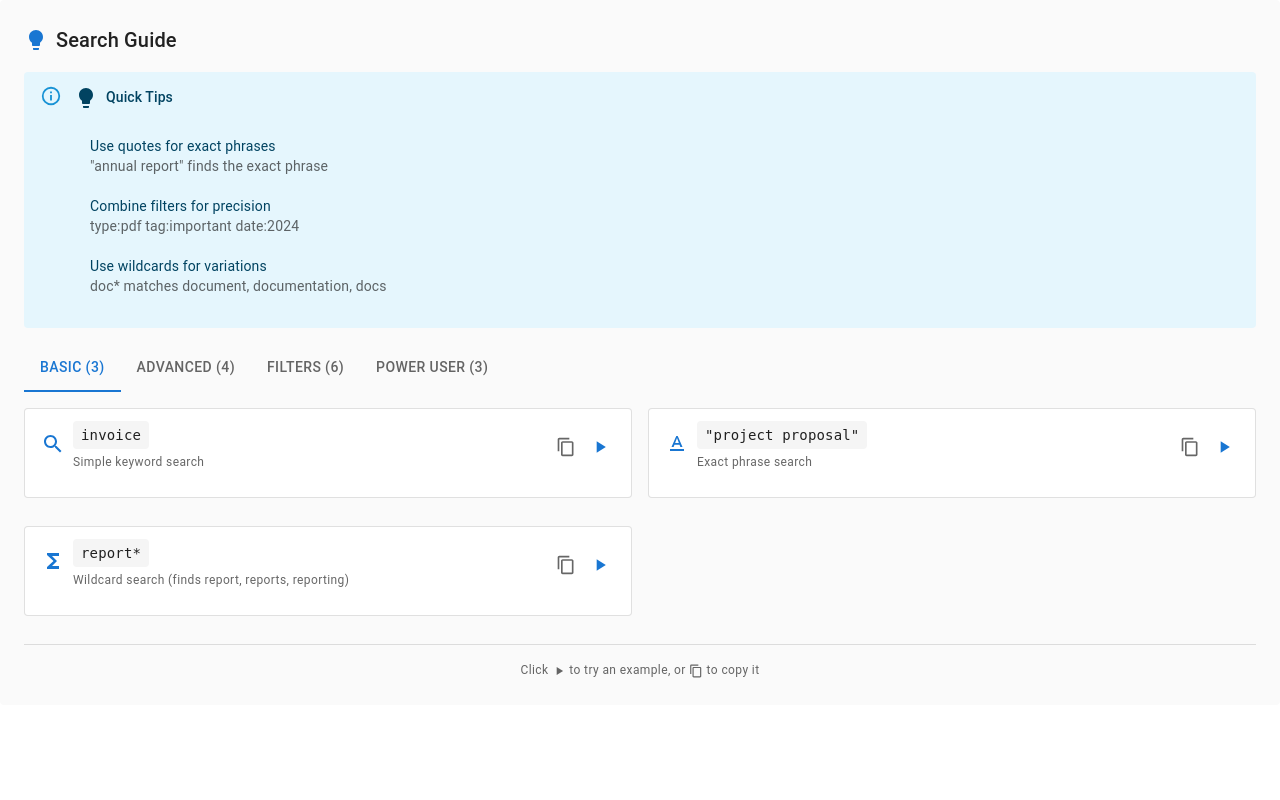
it: EnhancedSearchGuide › switches between tabs correctly
This screenshot has width=1280, height=800.
# Click on Advanced tab
What coordinates should you click on to do the following:
click the tab "Advanced (4)"
I would click on:
 (186, 368)
Its box is [121,344,251,392].
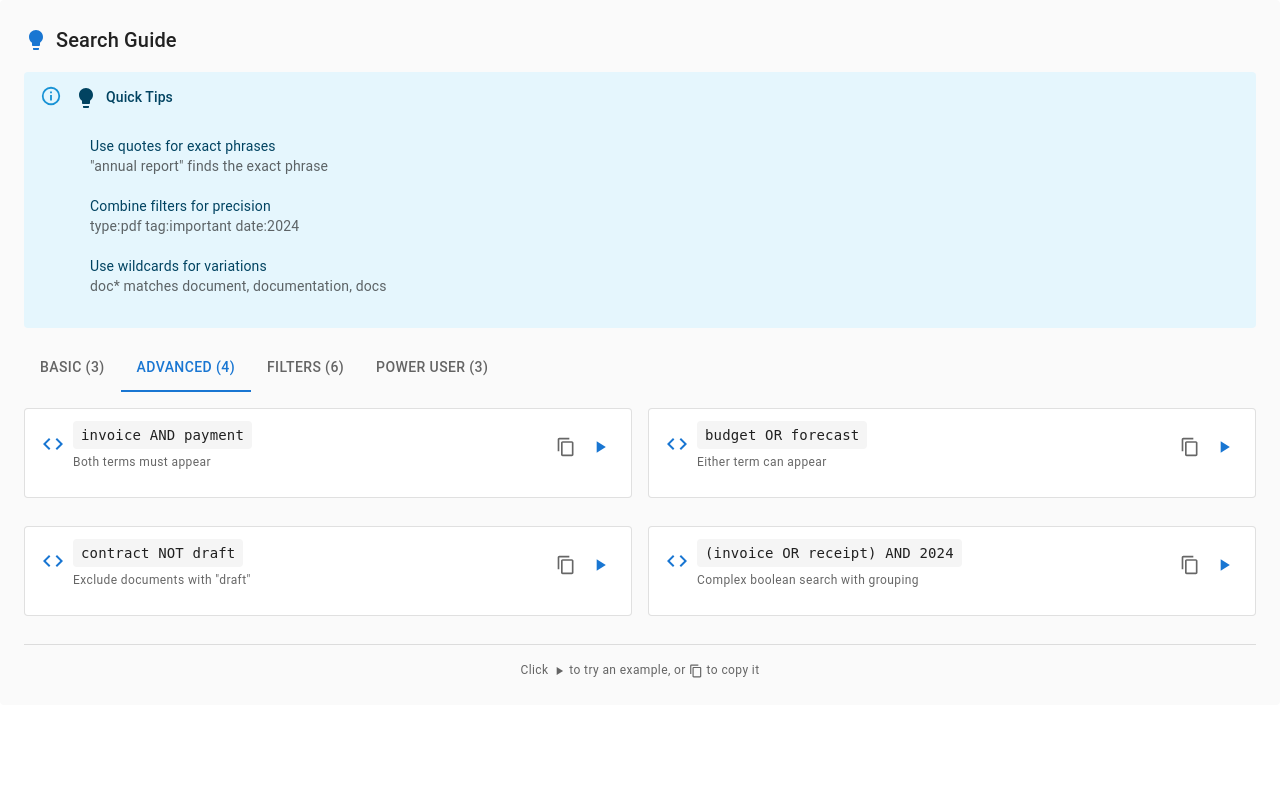
Check: the text "invoice AND payment" is shown, box [73,421,252,449]
Check: the text "budget OR forecast" is shown, box [697,421,867,449]
# Click on Filters tab
What coordinates should you click on to do the following:
click the tab "Filters (6)"
I would click on:
 (306, 368)
Its box is [251,344,360,392].
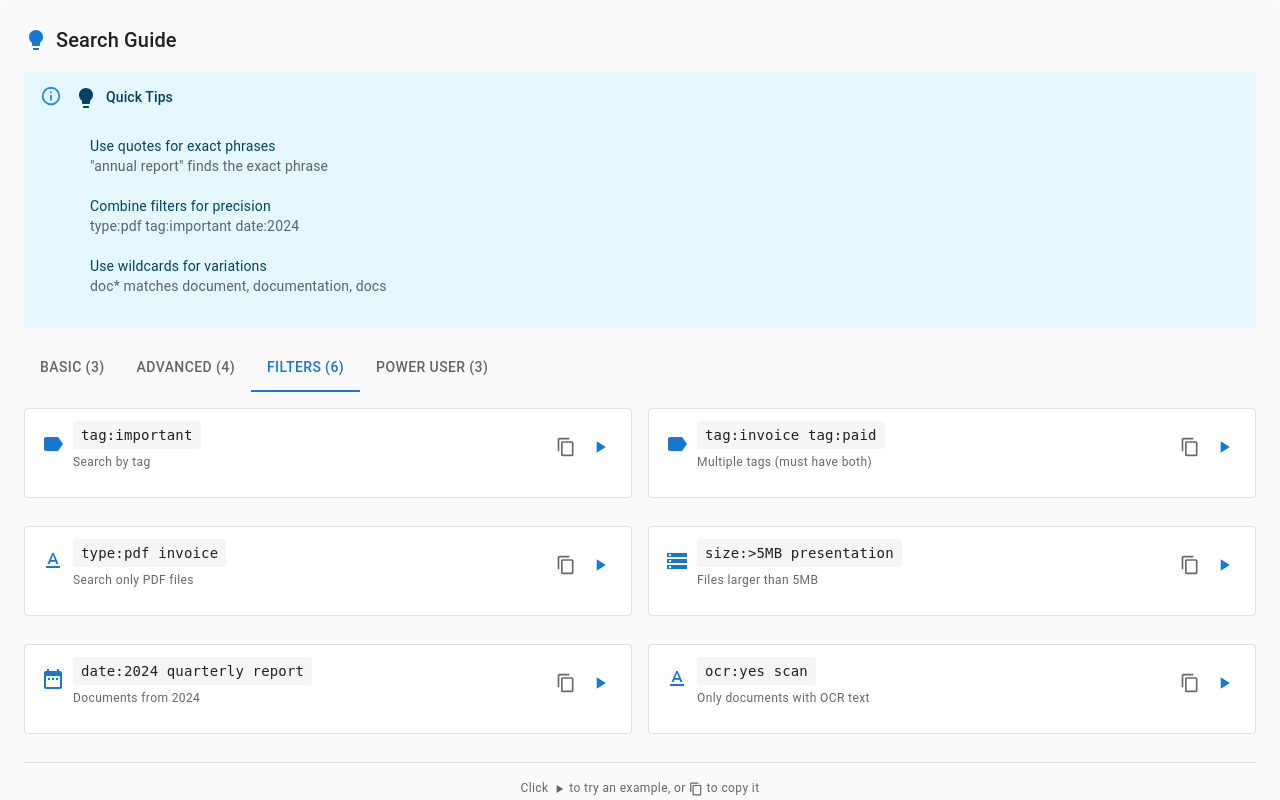
Check: the text "tag:important" is shown, box [73,421,200,449]
Check: the text "type:pdf invoice" is shown, box [73,539,226,567]
